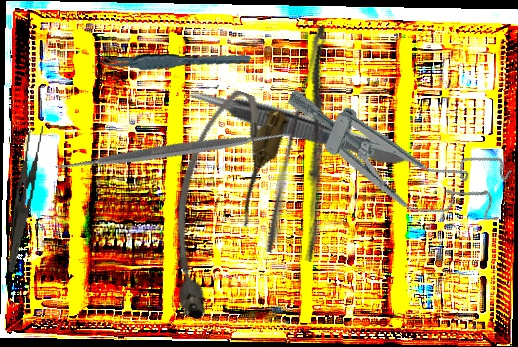Cannula: (137, 82, 294, 326)
Dressing Forceps: (261, 24, 367, 263), (6, 123, 47, 275)
Spatula Surgical: (45, 22, 303, 280)
Speculum: (267, 72, 516, 242)
Tissue Forceps: (181, 77, 411, 176), (95, 38, 252, 82)
